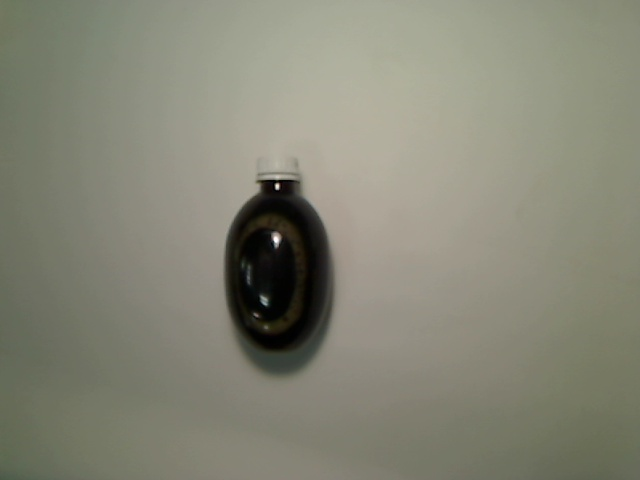plast_bottle: (221, 153, 332, 356)
